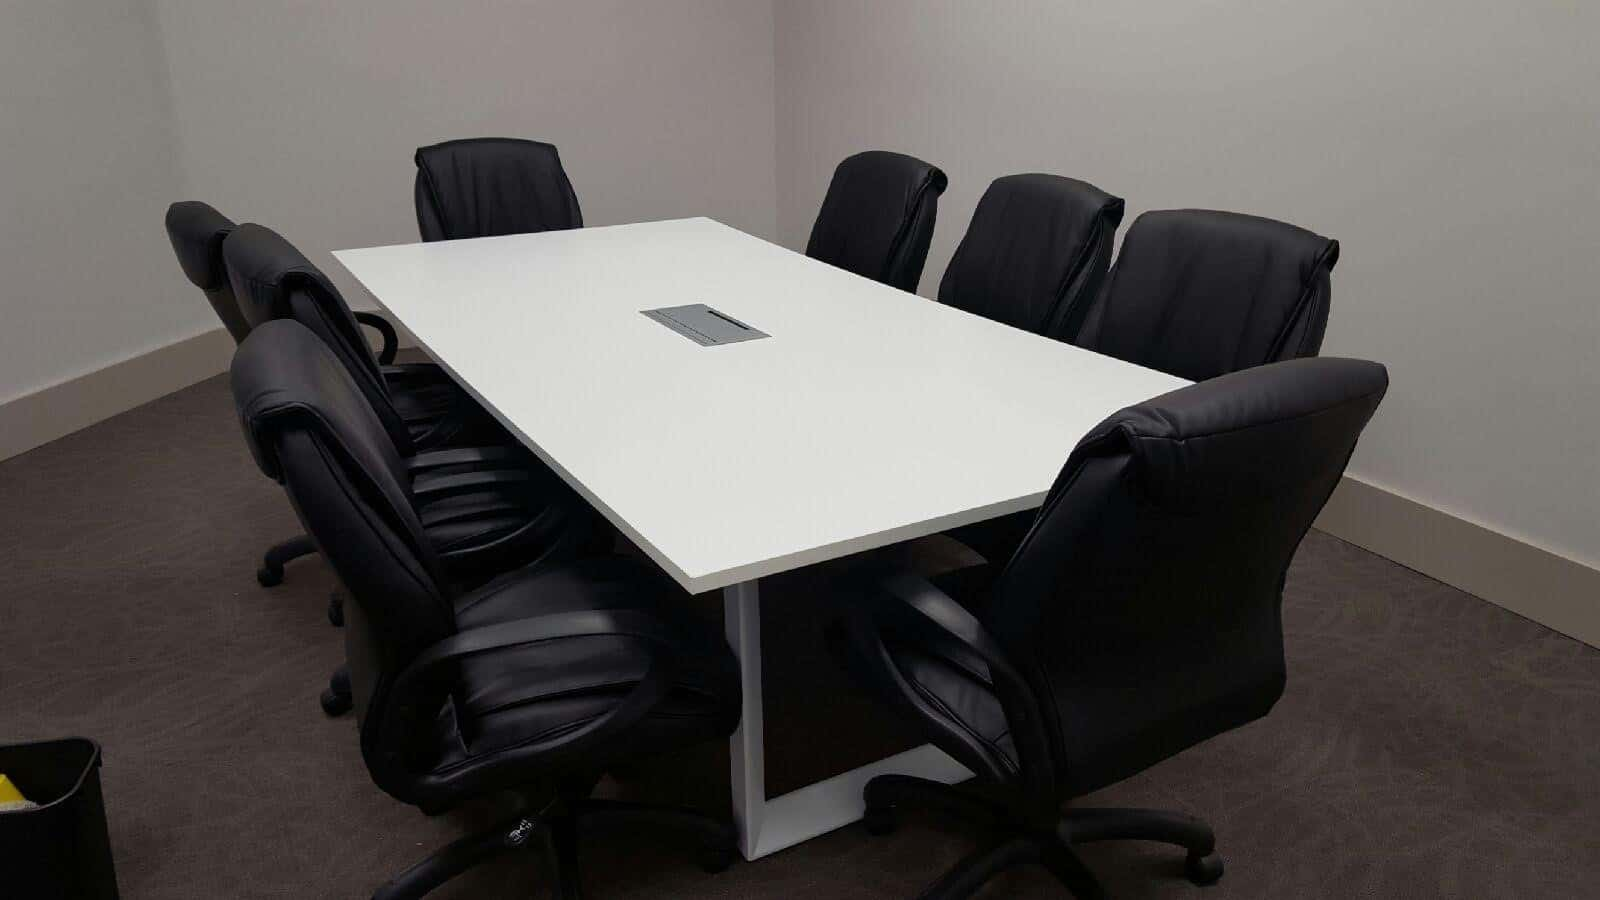conference_table: (331, 215, 1213, 859)
